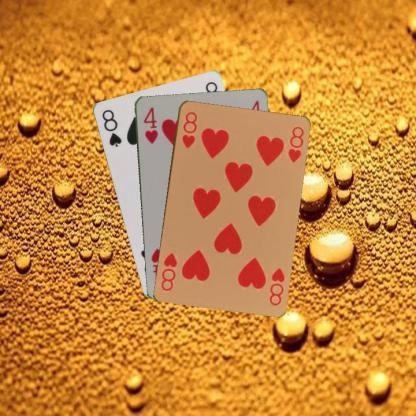4h: (140, 104, 159, 145)
8h: (266, 264, 286, 306), (179, 108, 198, 150)
8s: (99, 106, 122, 148)
